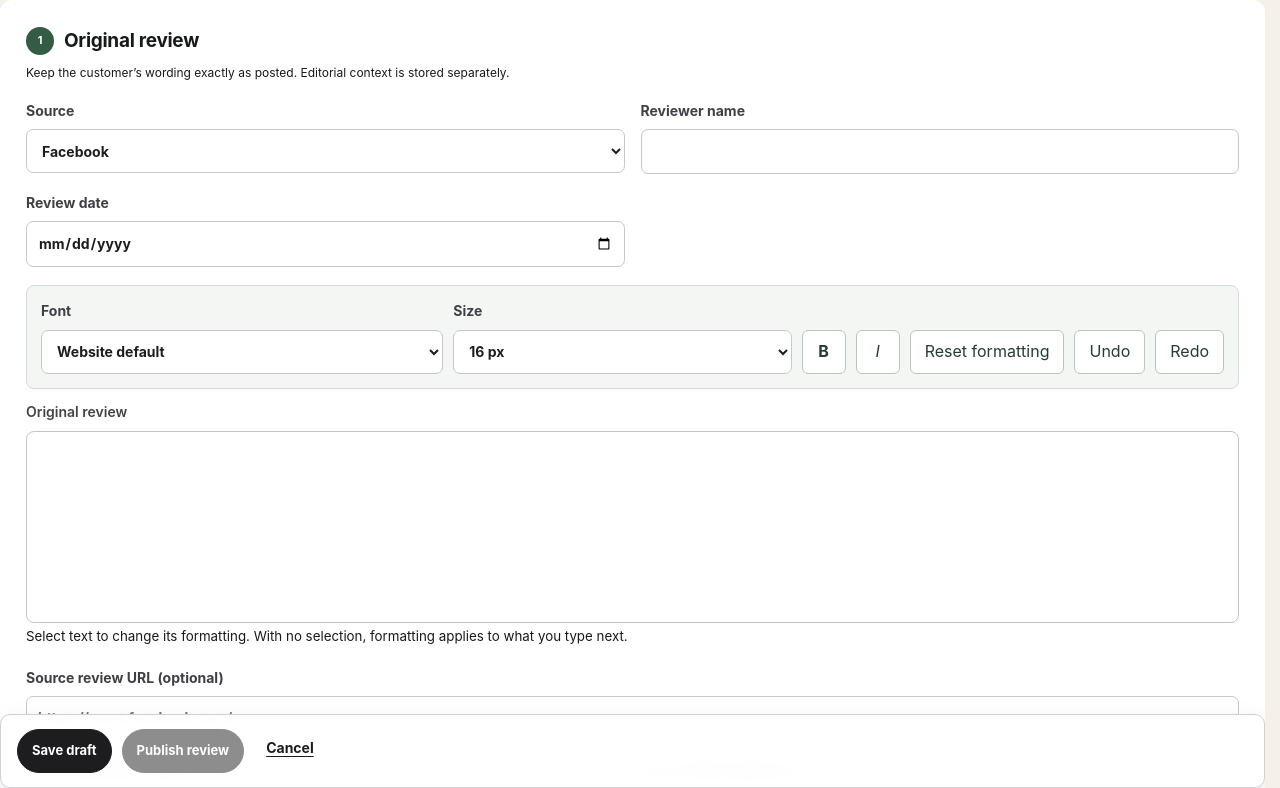
Test: CustomerReviewForm › keeps editorial wording separate and previews original line breaks as text
Type "Mereana" into the field labelled "Reviewer name".
click(940, 151); type("Mereana")  # box [640,129,1239,174]
(page scrolled)
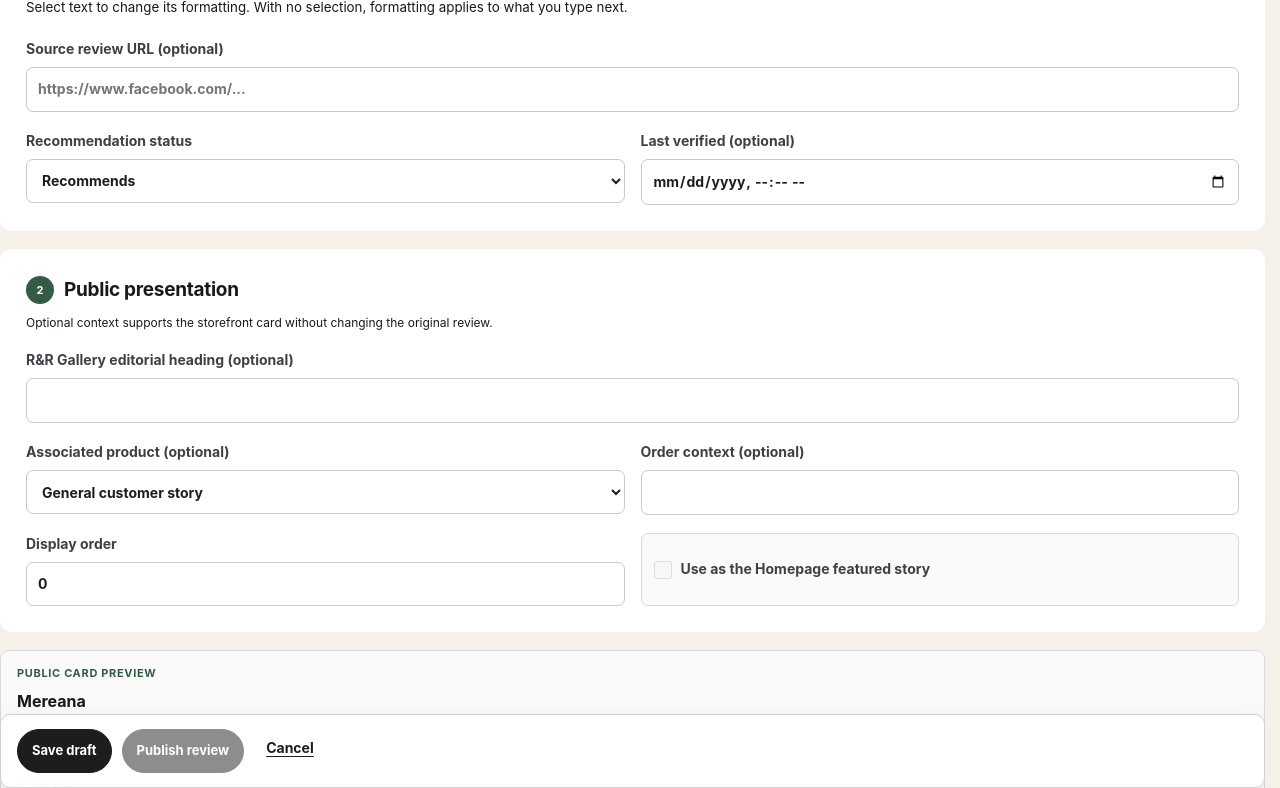
Type "A studio heading" into the field labelled "R&R Gallery editorial heading (optional)".
click(632, 401); type("A studio heading")  # box [26,378,1239,423]
(page scrolled)
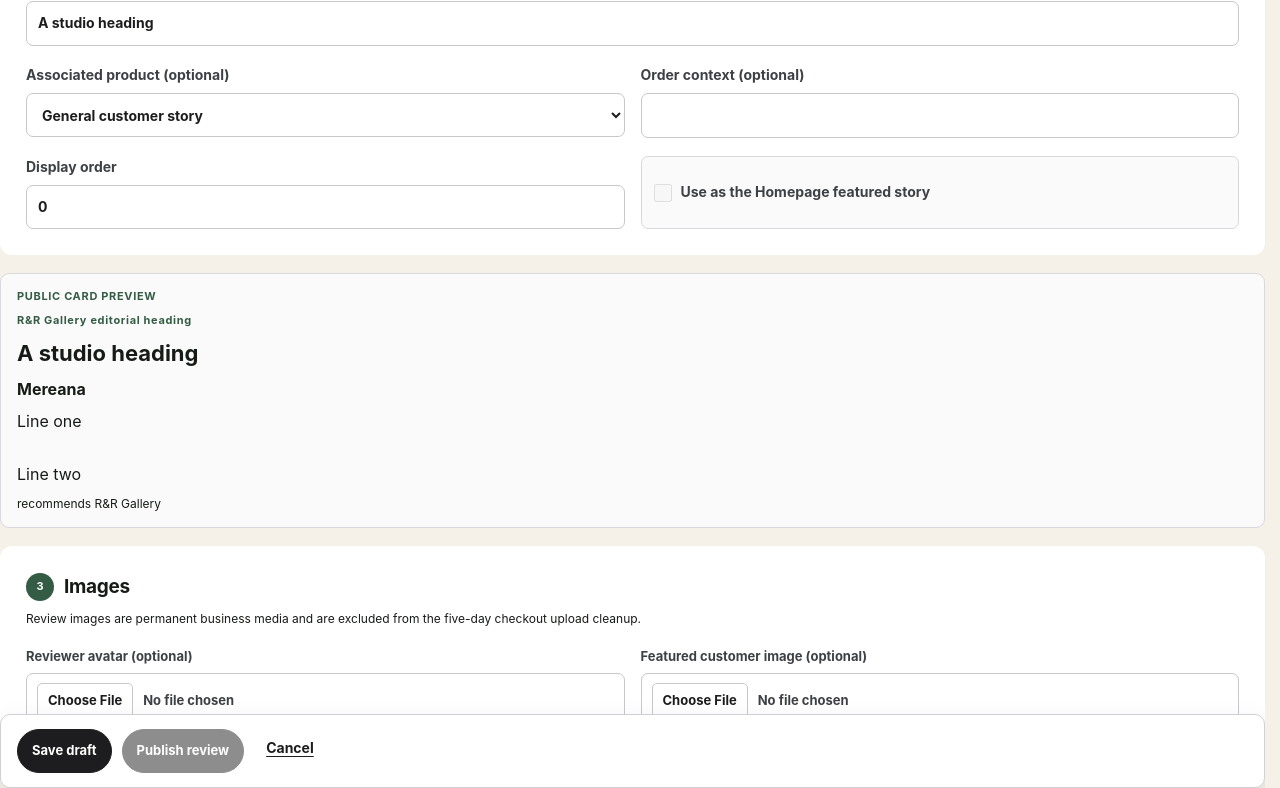
Result: the element named "Public review card preview" shows "A studio heading" at [17,340,198,366]
Result: the element named "Public review card preview" shows "R&R Gallery editorial heading" at [17,313,192,327]
